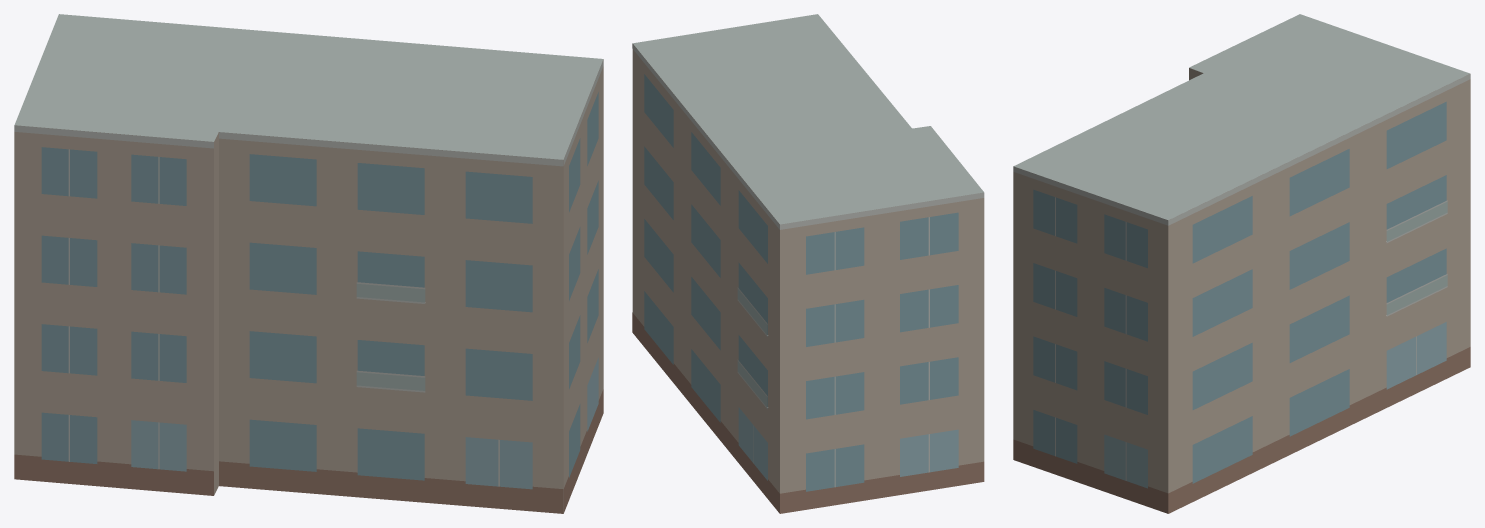
File: survey-upis-32747659.glb
The picture shows the model from 3 angles, left to right: view 1: azimuth 30°, elevation 25°; view 2: azimuth 150°, elevation 25°; view 3: azimuth 270°, elevation 25°; orthographic projection. The views are drawn at different scales.
Parts seen in each view (by area): view 1: survey-upis-32747659.tmp; view 2: survey-upis-32747659.tmp; view 3: survey-upis-32747659.tmp.
Part boxes in pixels (left/top/right/bottom): survey-upis-32747659.tmp: left=14, top=14, right=603, bottom=513; survey-upis-32747659.tmp: left=632, top=14, right=984, bottom=513; survey-upis-32747659.tmp: left=1013, top=14, right=1470, bottom=513.
Bounding box in the file's own units: 19.75 × 13.1 × 18.49.
